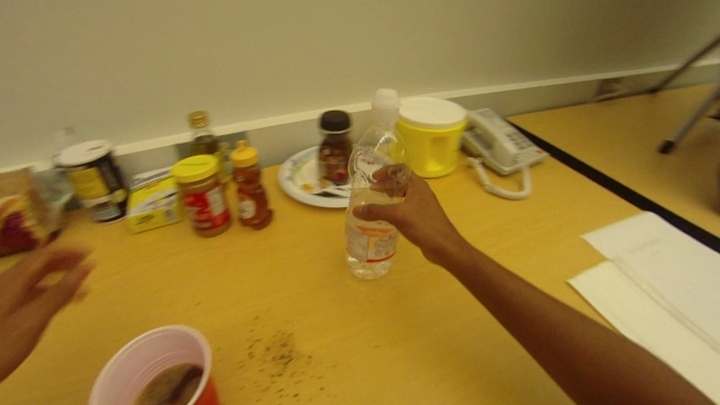hand: (1, 245, 91, 383), (355, 166, 461, 259)
